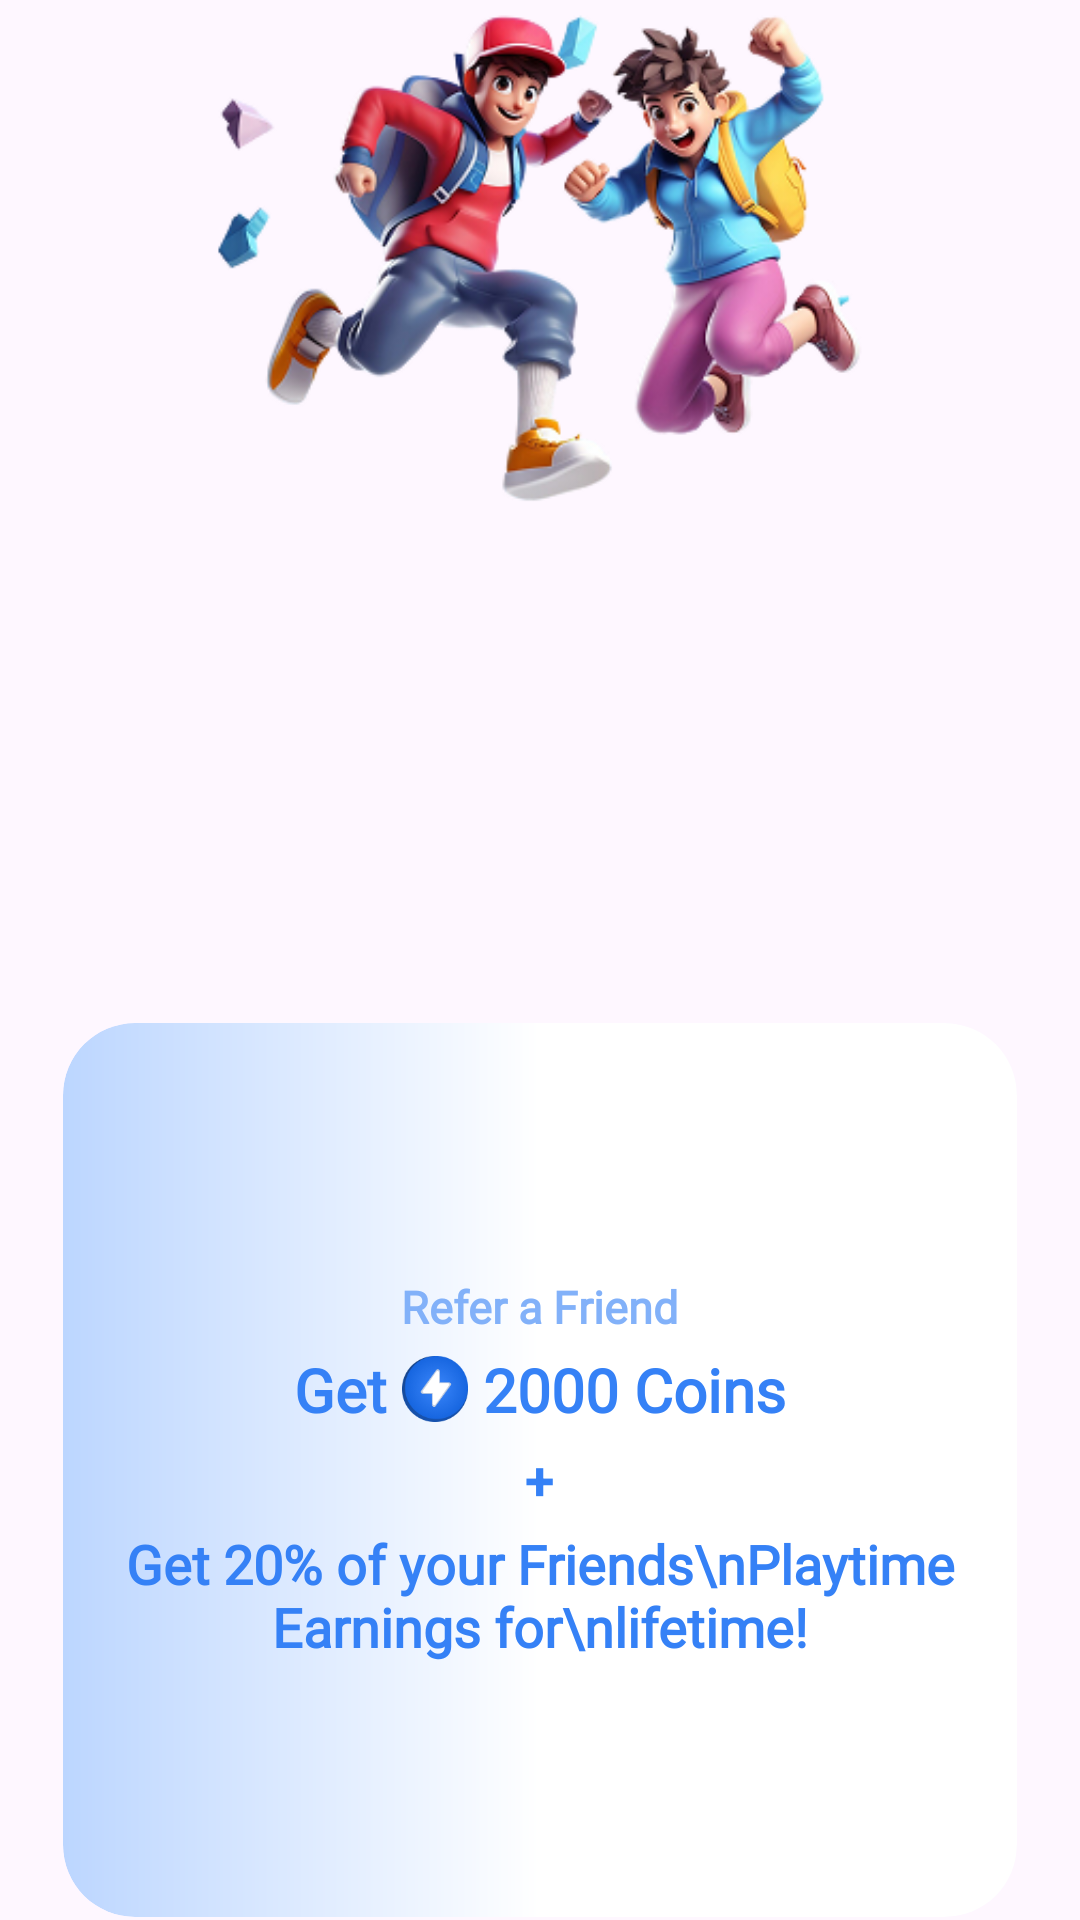

Icon bounding boxes for this 1080x1920 phone screenshot, format (x1, y1, x2, y2):
bolt: (402, 1356, 468, 1422)
